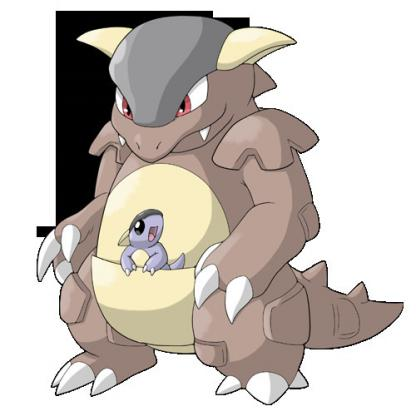Kangaskhan: (18, 21, 394, 402)
